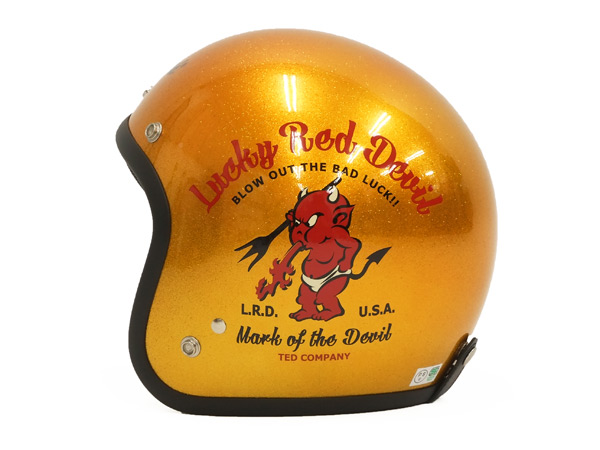with_helmet: (109, 23, 500, 418)
